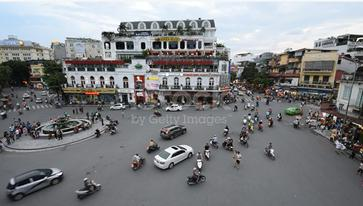car: (6, 162, 72, 200), (151, 142, 202, 173), (158, 123, 192, 141), (284, 105, 303, 116), (165, 103, 185, 113), (108, 102, 127, 111)
motorcycle: (68, 178, 111, 200), (179, 170, 216, 187), (126, 153, 151, 176), (233, 131, 256, 148), (262, 144, 281, 163), (145, 139, 162, 155), (201, 145, 215, 164), (245, 122, 258, 135), (209, 136, 221, 150), (223, 140, 235, 153), (151, 108, 164, 118), (257, 121, 266, 133), (106, 128, 121, 135), (222, 126, 230, 139), (241, 116, 248, 126), (267, 119, 274, 128), (246, 114, 253, 122)
